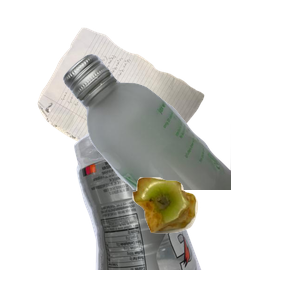glass: (60, 51, 300, 231)
paper: (35, 25, 232, 204)
plastic: (71, 120, 265, 300)
trash: (130, 175, 300, 300)
